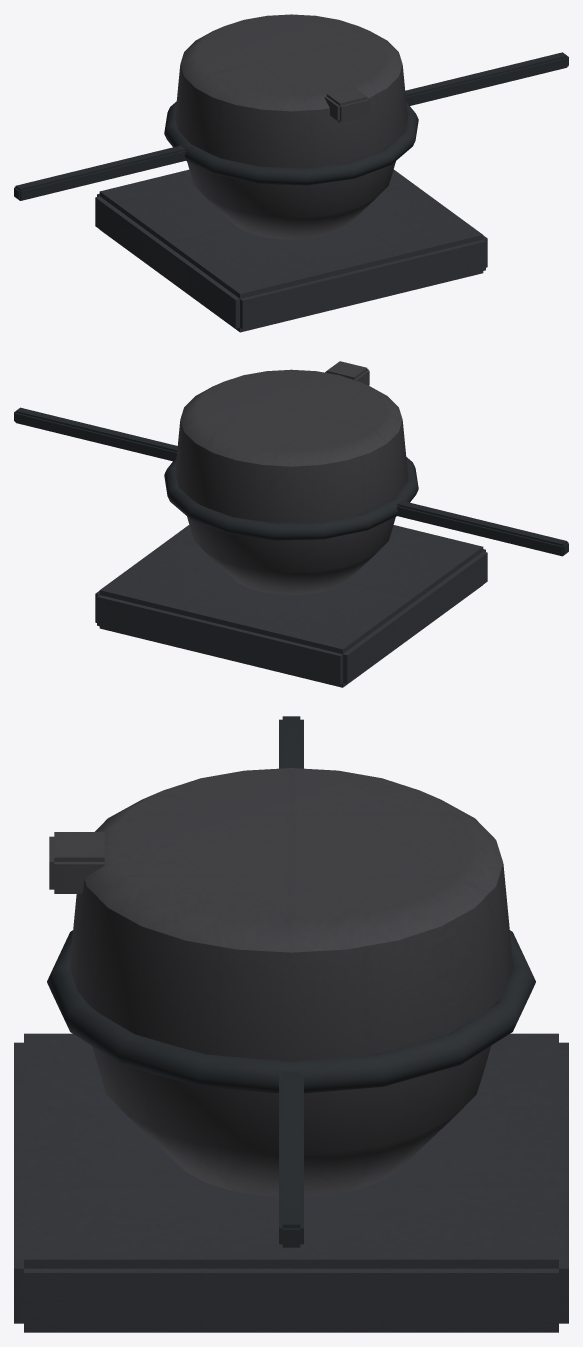
File: crucible_molten_copper.glb
3 views of the same model, one above another, from view 1: azimuth 30°, elevation 25°; view 2: azimuth 150°, elevation 25°; view 3: azimuth 270°, elevation 25° (orthographic). The views are drawn at different scales.
Visible parts, largest first — view 1: crucible_molten_copper; view 2: crucible_molten_copper; view 3: crucible_molten_copper.
Part boxes in pixels (<box>): crucible_molten_copper: <box>14,14,568,332</box>; crucible_molten_copper: <box>14,361,568,687</box>; crucible_molten_copper: <box>14,716,568,1332</box>.
Bounding box in the file's own units: 2.4 × 0.82 × 1.1.
1 material, 1 textured.
